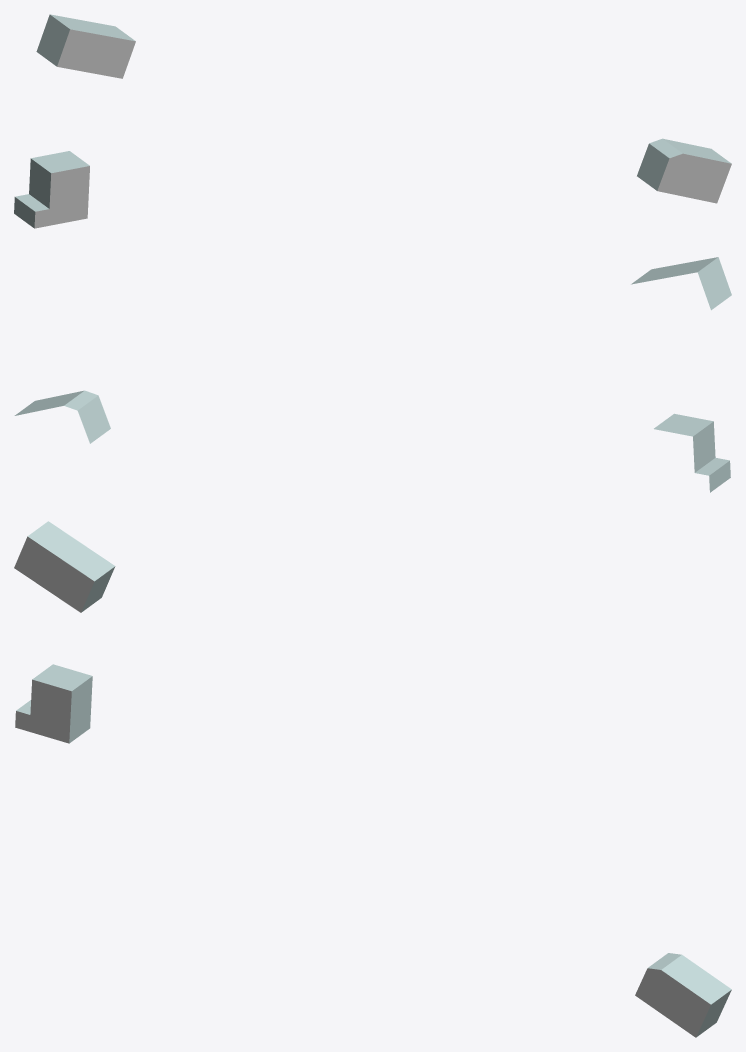
3 renders of one model, top to bottom at view 1: azimuth 30°, elevation 25°; view 2: azimuth 150°, elevation 25°; view 3: azimuth 330°, elevation 25°, orthographic.
Parts seen in each view (by area): view 1: 0_2_1_2_0_0_0_1_0; view 2: 0_2_1_2_0_0_0_1_0; view 3: 0_2_1_2_0_0_0_1_0.
Part boxes in pixels (bbox=[...]): 0_2_1_2_0_0_0_1_0: bbox=[14, 14, 731, 228]; 0_2_1_2_0_0_0_1_0: bbox=[14, 257, 731, 492]; 0_2_1_2_0_0_0_1_0: bbox=[14, 521, 731, 1037].
Bounding box in the file's own units: 58.28 × 27.15 × 4.73.
